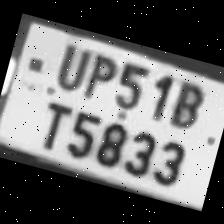1: (139, 64, 178, 122)
3: (147, 129, 192, 190), (118, 120, 161, 178)
5: (106, 54, 154, 114), (60, 102, 104, 162)
8: (89, 112, 132, 171)
B: (164, 72, 208, 130)
P: (78, 44, 122, 103)
T: (28, 90, 74, 153)
U: (47, 35, 93, 92)
